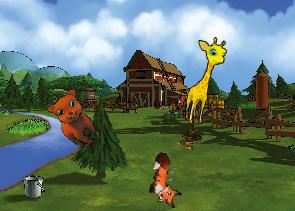bear: (41, 84, 111, 152)
fox: (144, 151, 189, 209)
giraffe: (182, 34, 229, 128)
